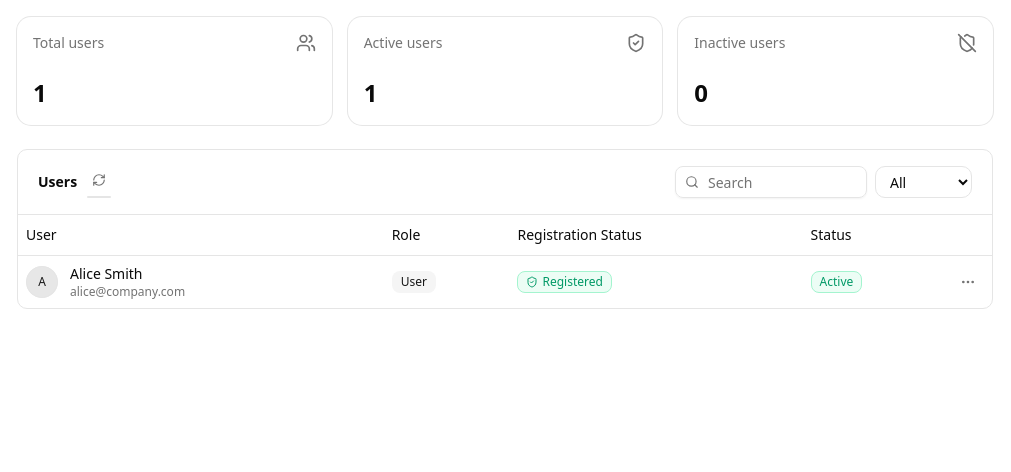
UsersTable — self row actions › shows all actions for another user's row
Click the button named "Actions for Alice".
click(968, 282)  # box [952,266,984,298]
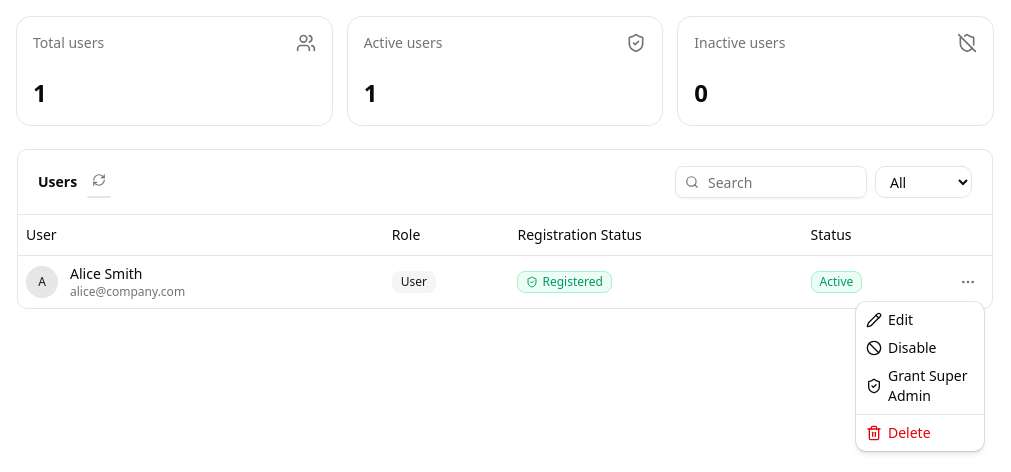
Expected: the menu item "Edit" is shown, [866,310,913,329]
Expected: the menu item "Disable" is shown, [866,338,936,357]
Expected: the menu item "Grant Super Admin" is shown, [866,366,968,405]
